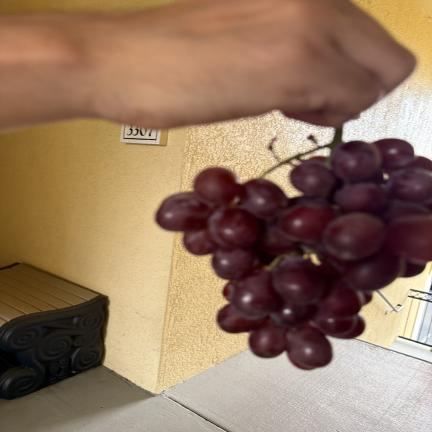grape_cluster: (156, 128, 432, 370)
